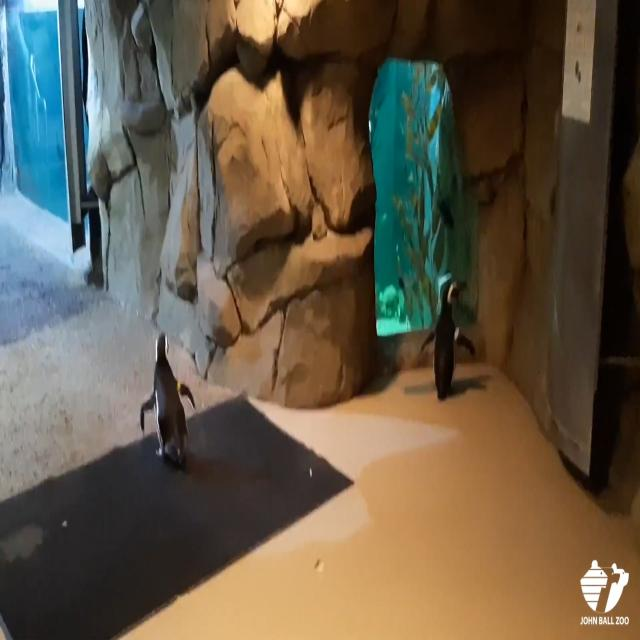penguin: (140, 330, 197, 475), (419, 275, 477, 405)
